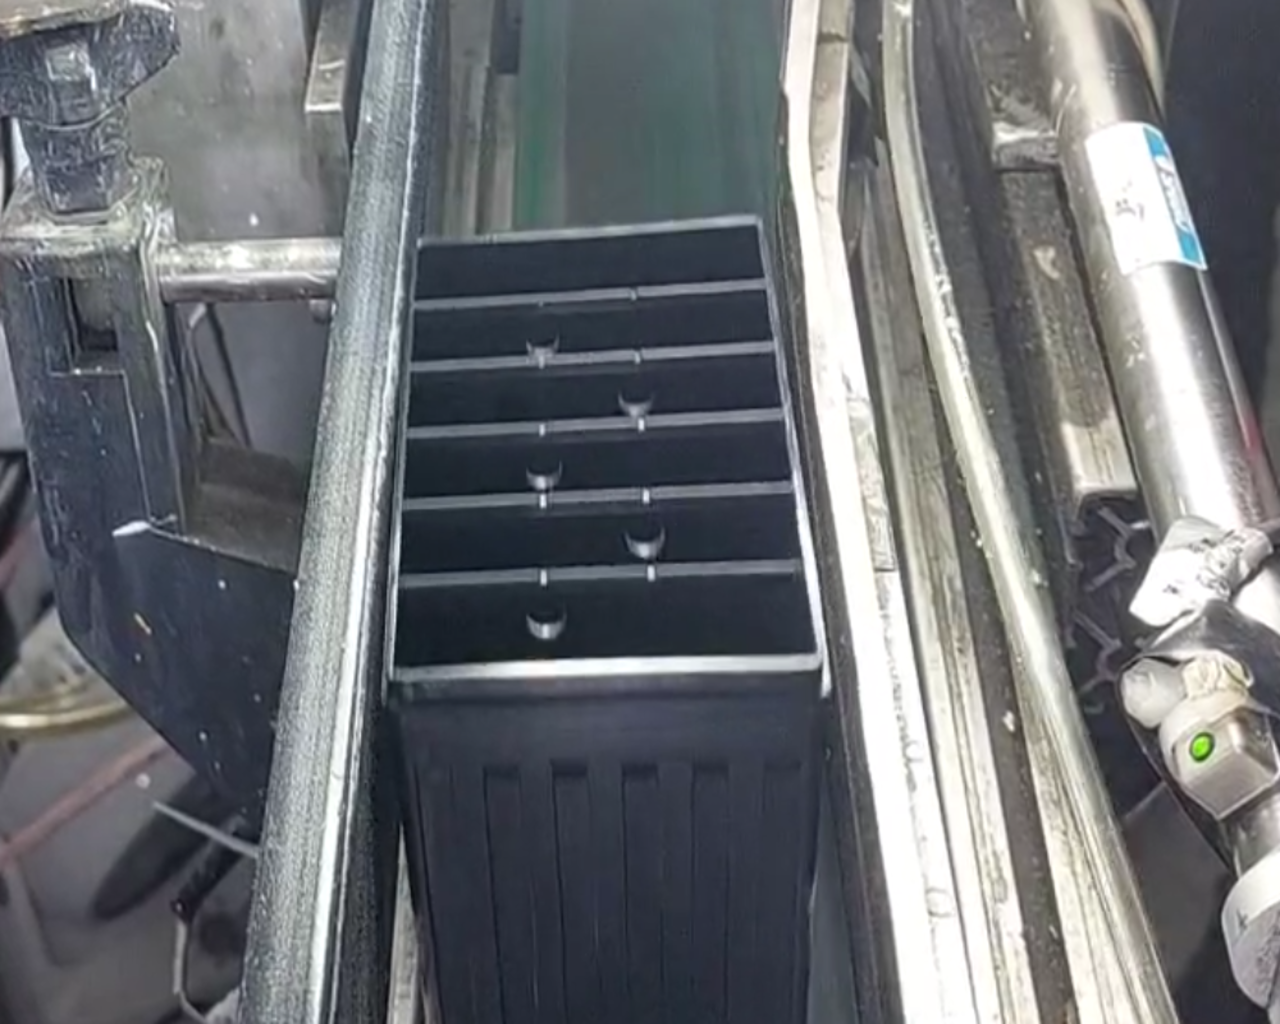box: (369, 191, 852, 721)
round: (606, 507, 683, 566), (509, 437, 577, 498), (602, 369, 674, 425), (510, 589, 578, 646), (513, 315, 571, 366)
